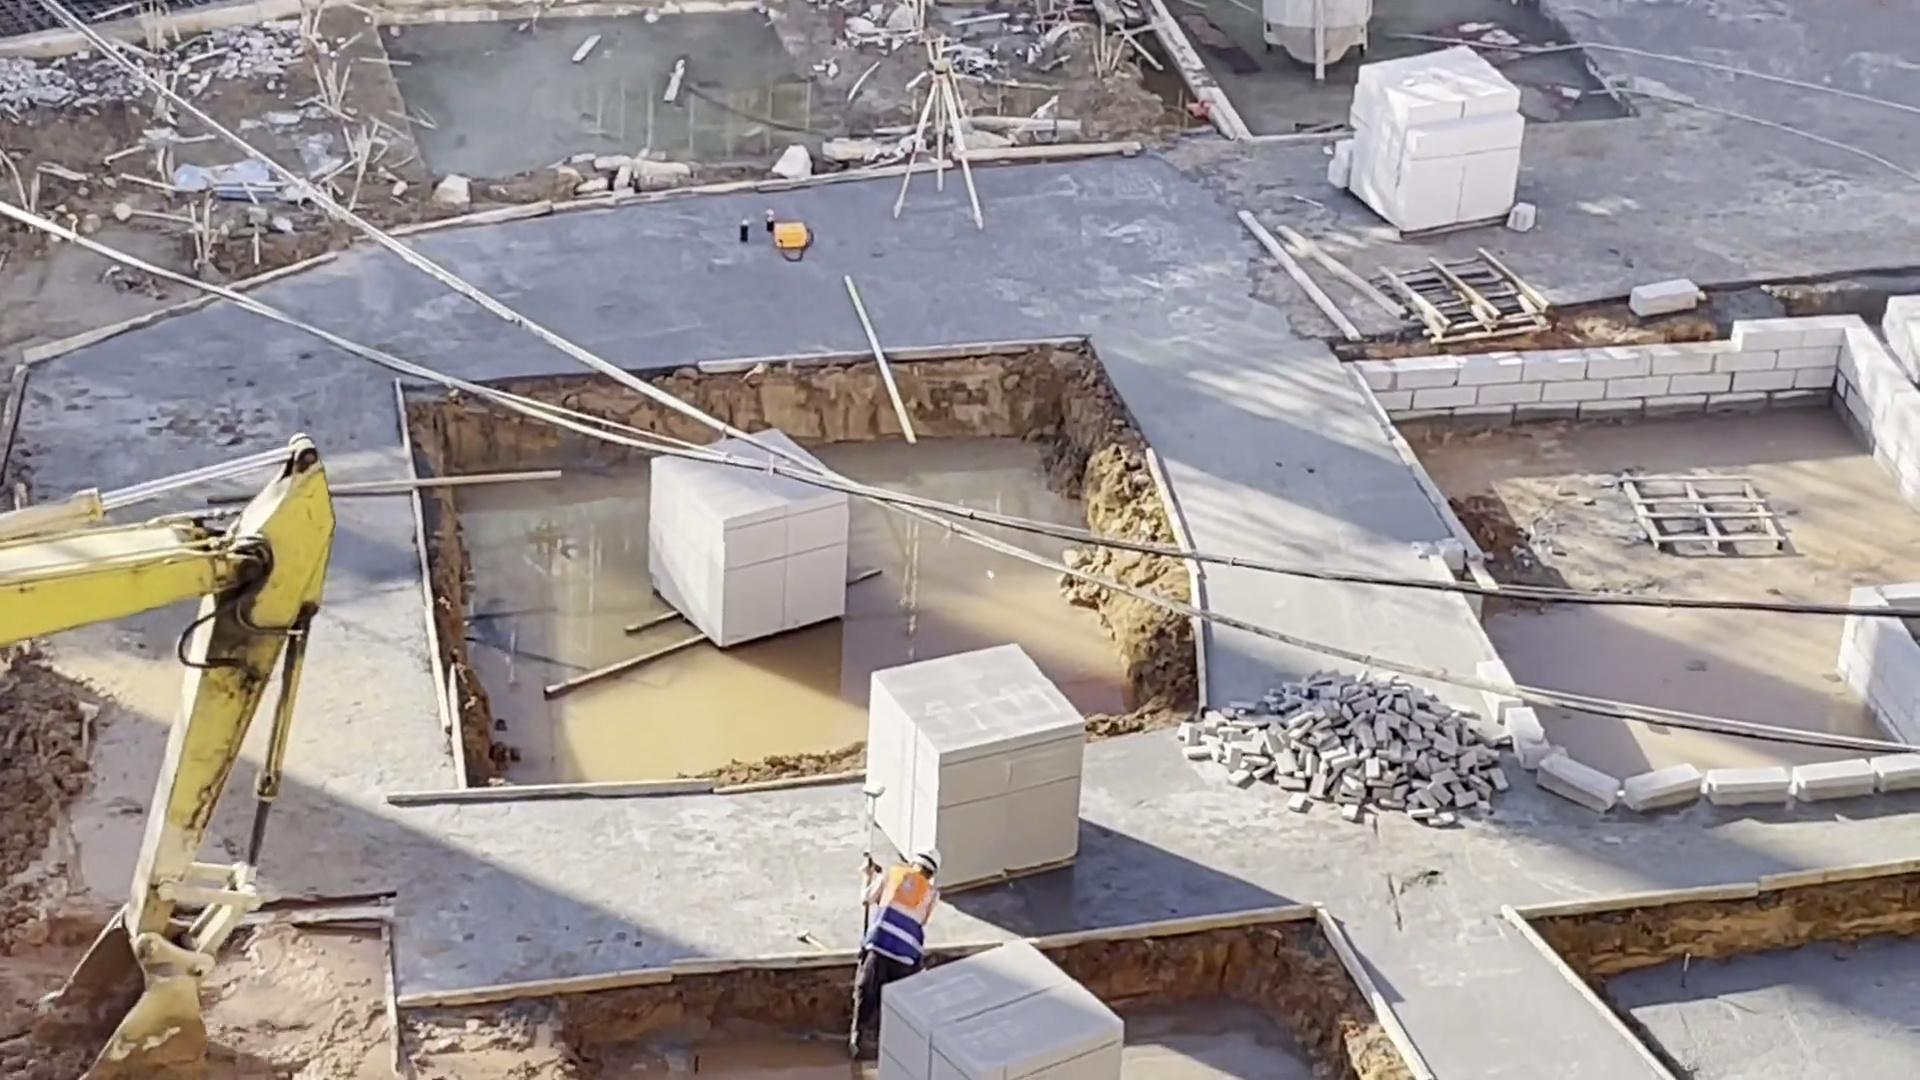brick: (1178, 664, 1514, 835), (854, 640, 1089, 881), (628, 422, 849, 654), (1341, 46, 1525, 246), (877, 938, 1132, 1080)
helmet: (913, 848, 942, 881)
hopper: (1258, 1, 1374, 74)
person: (848, 848, 947, 1044)
vest: (863, 887, 923, 1001)
